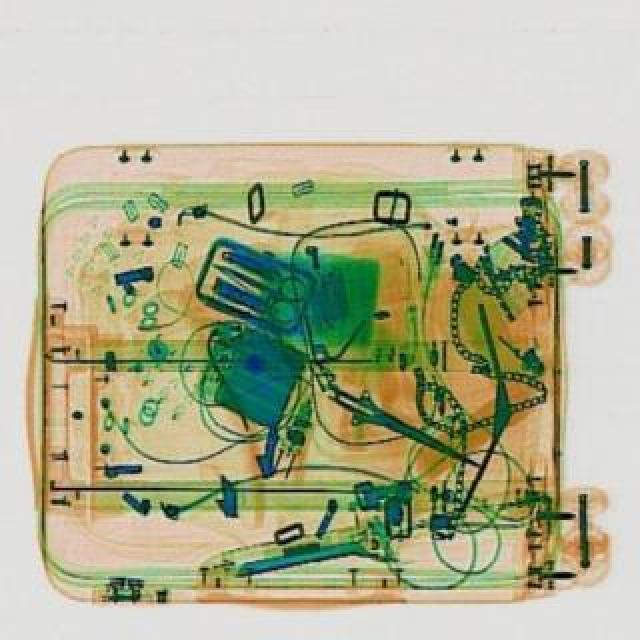knife: (316, 372, 486, 480)
pliers: (202, 238, 314, 324)
